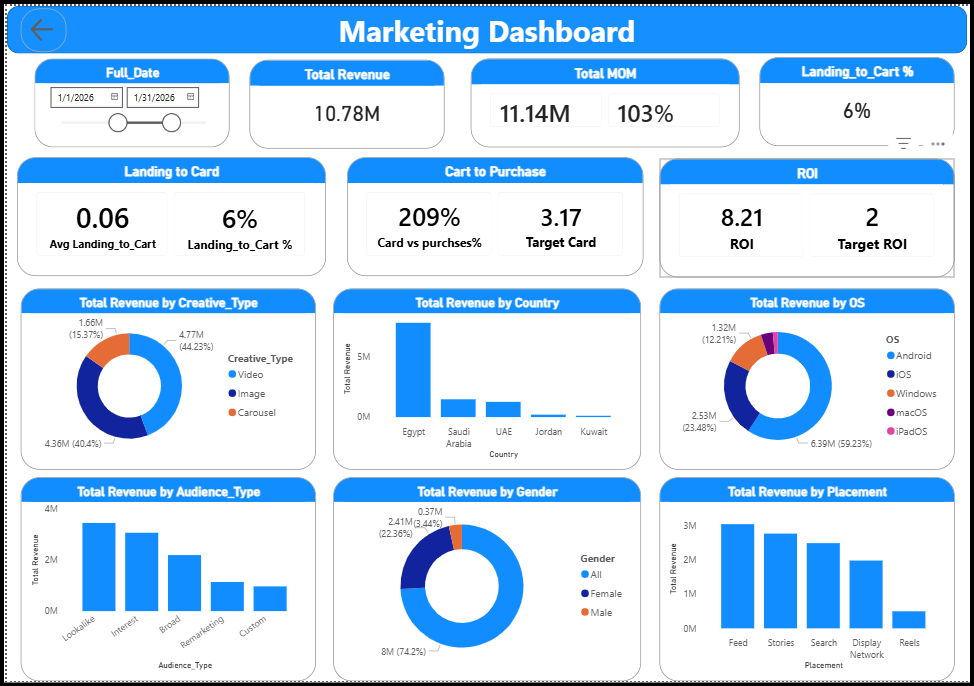

The page's visual inventory and layout, read from the dashboard file:
{"tool":"powerbi","page":{"name":"Page 2","canvas":[1285,900],"ordinal":1},"visuals":[{"type":"shape","title":"Dashboard Overveiw","box":[0,0,1280,63.3],"z":0},{"type":"slicer","title":"Full_Date","fields":{"Values":["Dim_Date.Full_Date"]},"box":[36,70,260,118],"z":1000},{"type":"card","title":"Total Revenue","fields":{"Values":["Dax.Total Revenue"]},"box":[324,72,260,118],"z":2000},{"type":"cardVisual","title":"Total MOM","fields":{"Data":["Dax.Total MOM","Dax.MOM%"]},"box":[618,70,358,118],"z":3000},{"type":"card","title":"Landing_to_Cart %","fields":{"Values":["Dax.Landing_to_Cart %"]},"box":[1004,68,260,118],"z":4000},{"type":"cardVisual","title":"Landing to Card","fields":{"Data":["Dax.Avg Landing_to_Cart","Dax.Landing_to_Cart %"]},"box":[13.3,201.7,411.7,158.3],"z":5000},{"type":"cardVisual","title":"Cart to Purchase","fields":{"Data":["Dax.Card vs purchses%","Dax.Target Cart to Purchase"]},"box":[453.3,201.7,395,158.3],"z":6000},{"type":"cardVisual","title":"ROI","fields":{"Data":["Dax.ROI","Dax.Target ROI"]},"box":[870,203.3,393.3,158.3],"z":7000},{"type":"columnChart","fields":{"Category":["Dim_Geography.Country"],"Y":["Dax.Total Revenue"]},"box":[435,376.7,410,241.7],"z":8000},{"type":"donutChart","fields":{"Category":["Dim_Ad.Creative_Type"],"Y":["Dax.Total Revenue"]},"box":[18.3,376.7,393.3,241.7],"z":9000},{"type":"donutChart","fields":{"Category":["Dim_Device.OS"],"Y":["Dax.Total Revenue"]},"box":[870,376.7,393.3,241.7],"z":10000},{"type":"donutChart","fields":{"Category":["Dim_AdSet.Gender"],"Y":["Dax.Total Revenue"]},"box":[435,628.3,410,271.7],"z":11000},{"type":"columnChart","fields":{"Category":["Dim_AdSet.Audience_Type"],"Y":["Dax.Total Revenue"]},"box":[18.3,628.3,393.3,271.7],"z":12000},{"type":"columnChart","fields":{"Category":["Dim_AdSet.Placement"],"Y":["Dax.Total Revenue"]},"box":[870,628.3,393.3,271.7],"z":13000},{"type":"actionButton","box":[18.5,3.1,60.8,57.7],"z":13001}]}

Visuals, with their boxes in screenshot pixels (x1, y1, x2, y2), scaled from the page's 1285x900 canvas onto the 974x686 screenshot:
"Dashboard Overveiw" shape: 0 0 970 48
"Full_Date" slicer: 27 53 224 143
"Total Revenue" card: 246 55 443 145
"Total MOM" cardVisual: 468 53 740 143
"Landing_to_Cart %" card: 761 52 958 142
"Landing to Card" cardVisual: 10 154 322 274
"Cart to Purchase" cardVisual: 344 154 643 274
"ROI" cardVisual: 659 155 958 276
columnChart - Dim_Geography.Country x Dax.Total Revenue: 330 287 640 471
donutChart - Dim_Ad.Creative_Type x Dax.Total Revenue: 14 287 312 471
donutChart - Dim_Device.OS x Dax.Total Revenue: 659 287 958 471
donutChart - Dim_AdSet.Gender x Dax.Total Revenue: 330 479 640 685
columnChart - Dim_AdSet.Audience_Type x Dax.Total Revenue: 14 479 312 685
columnChart - Dim_AdSet.Placement x Dax.Total Revenue: 659 479 958 685
actionButton: 14 2 60 46
